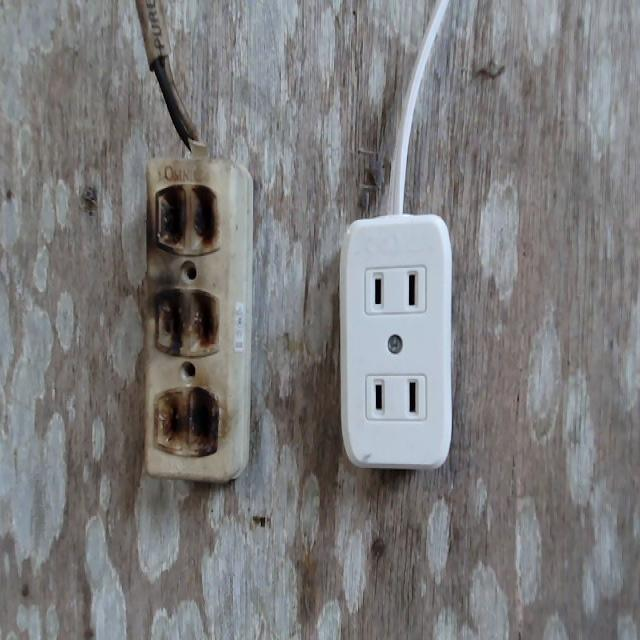-: (149, 178, 226, 462)
